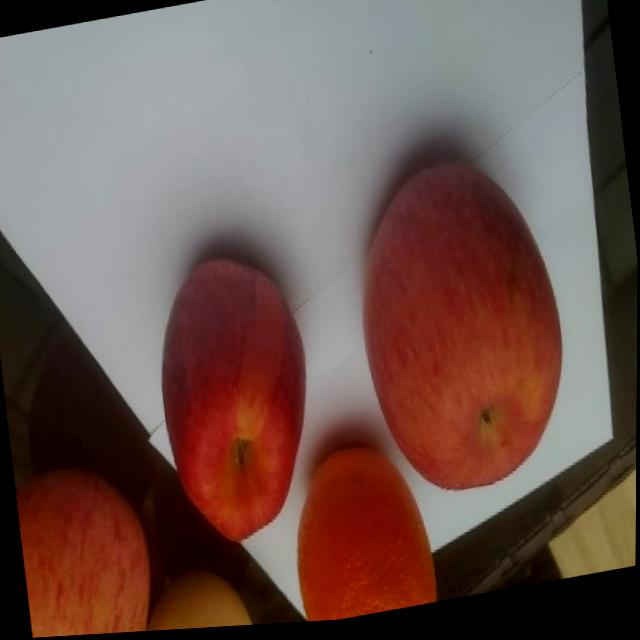Apple: (342, 147, 580, 511), (144, 244, 327, 556), (12, 453, 161, 639)
Orange: (282, 437, 440, 627)
